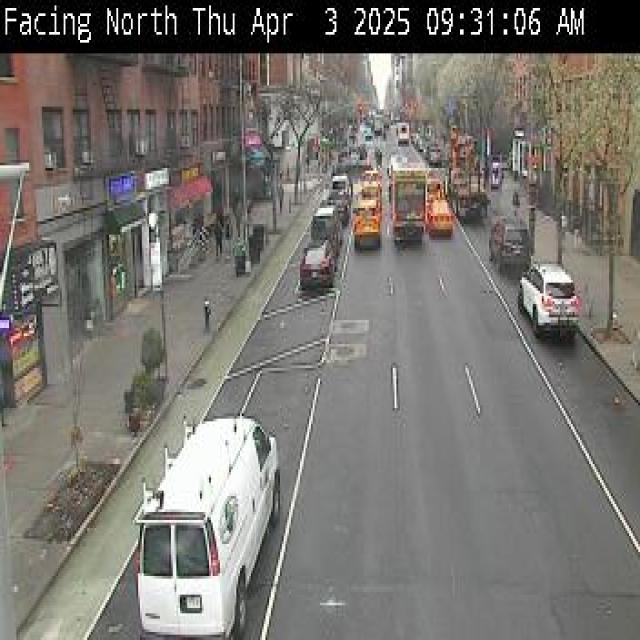open parking: (447, 171, 640, 613)
